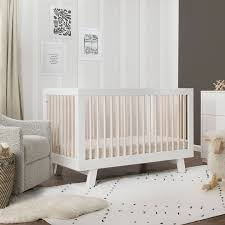crib: (43, 87, 194, 187)
